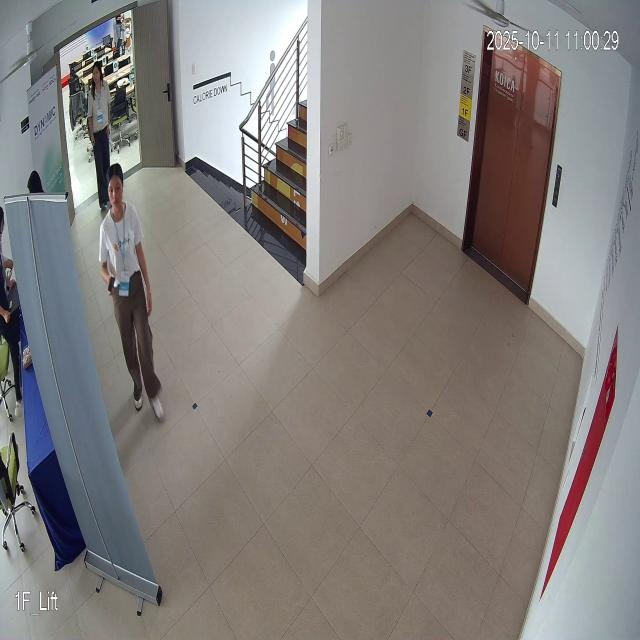face: (100, 162, 129, 216)
